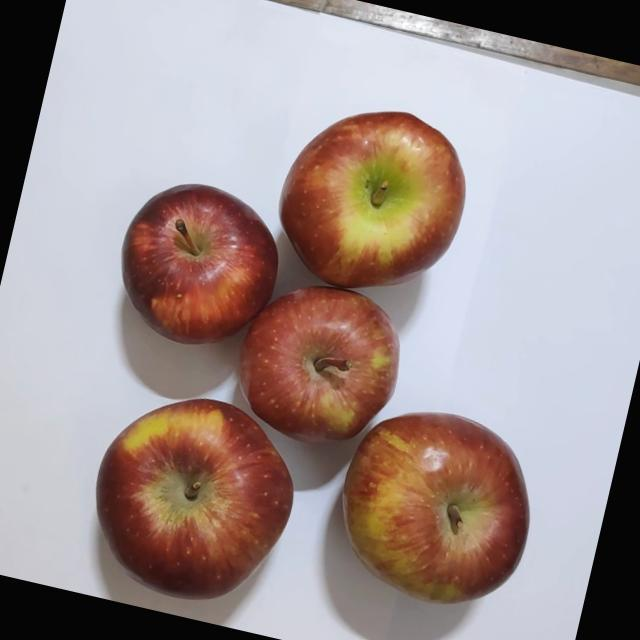apple: (61, 369, 324, 627), (317, 386, 561, 632), (260, 82, 488, 314), (214, 260, 418, 466), (99, 165, 298, 368)
